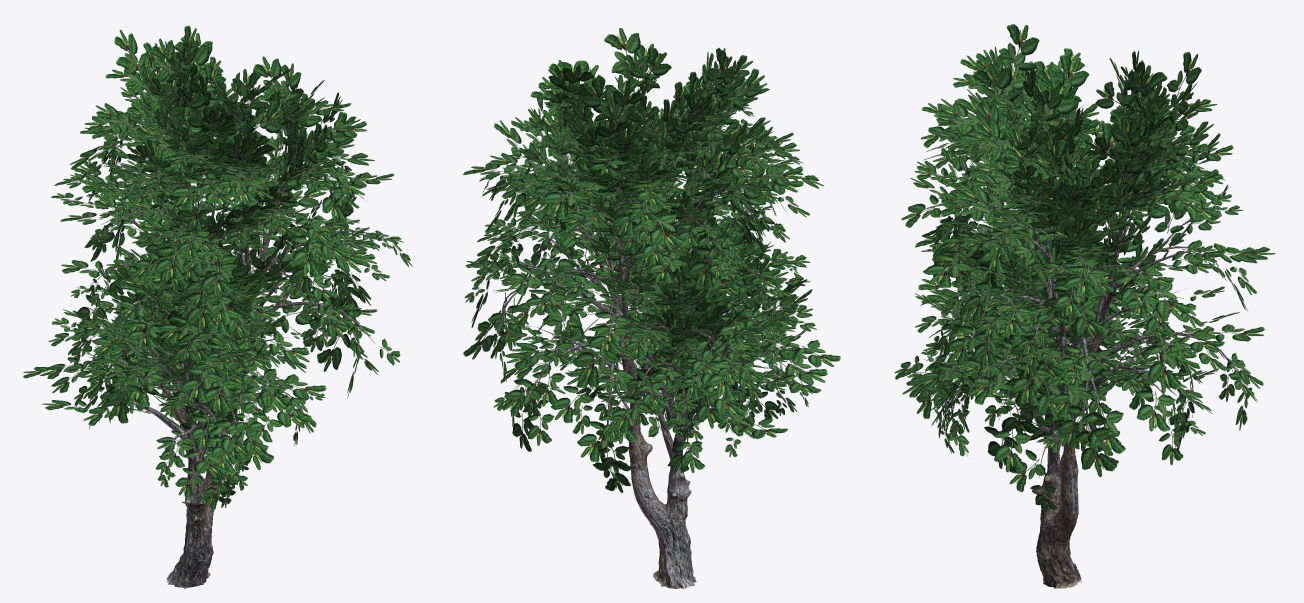
Rendered from high_quality_tree_66.glb.
3 views of the same model, side by side, from view 1: azimuth 30°, elevation 25°; view 2: azimuth 150°, elevation 25°; view 3: azimuth 270°, elevation 25° (orthographic). The views are drawn at different scales.
Visible parts, largest first — view 1: leaves1.001, leaves2.001, Graf1HIGH; view 2: leaves1.001, leaves2.001, Graf1HIGH; view 3: leaves1.001, leaves2.001, Graf1HIGH.
Boxes of the visible parts, left/top/right/bottom form: leaves1.001: left=51, top=25, right=412, bottom=469; leaves2.001: left=23, top=240, right=326, bottom=509; Graf1HIGH: left=71, top=78, right=386, bottom=588; leaves1.001: left=463, top=28, right=823, bottom=492; leaves2.001: left=532, top=212, right=840, bottom=473; Graf1HIGH: left=482, top=78, right=792, bottom=588; leaves1.001: left=895, top=24, right=1275, bottom=511; leaves2.001: left=894, top=209, right=1219, bottom=456; Graf1HIGH: left=924, top=89, right=1240, bottom=588.
Bounding box in the file's own units: 7.03 × 9.67 × 6.45.
Materials: 3 (3 with a texture image).
